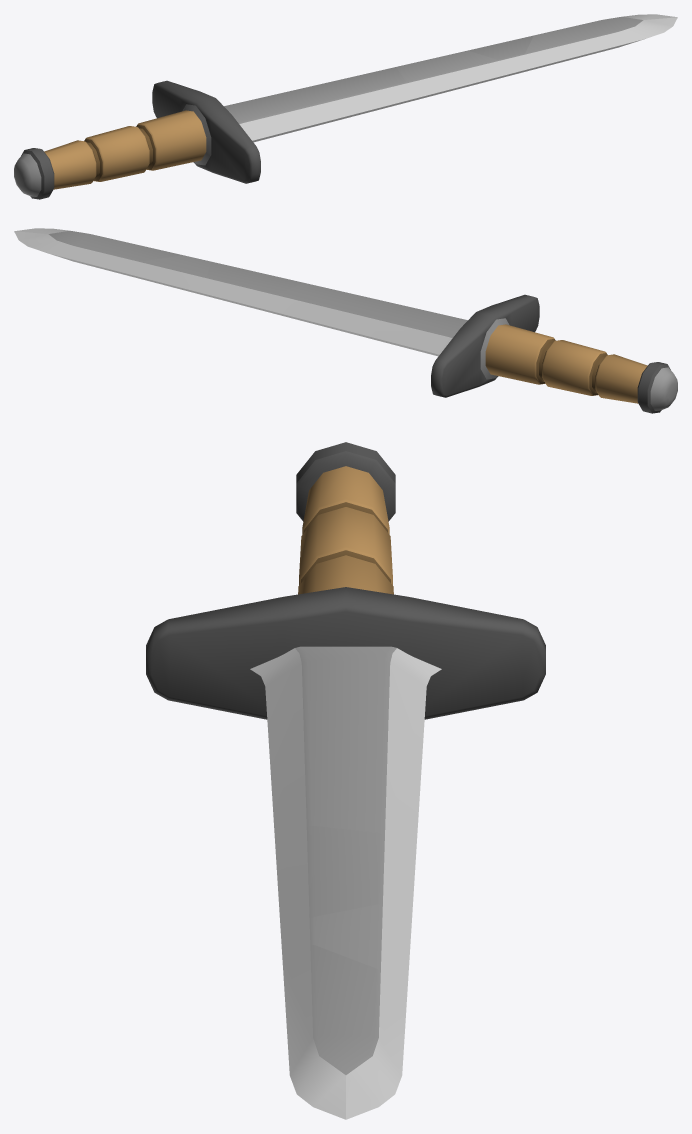
The model's file is Entity_Sword-bkn.FBX.
The picture shows the model from 3 angles, top to bottom: view 1: azimuth 30°, elevation 25°; view 2: azimuth 150°, elevation 25°; view 3: azimuth 270°, elevation 25°; orthographic projection. The views are drawn at different scales.
Parts seen in each view (by area): view 1: Object001, Sword_Part_4, Sword_Part_3, Sword_Part_2, Sword_Part_1; view 2: Object001, Sword_Part_4, Sword_Part_3, Sword_Part_2, Sword_Part_1; view 3: Object001, Sword_Part_4, Sword_Part_3, Sword_Part_2, Sword_Part_1.
Boxes of the visible parts, <box> form: Object001: <box>14,80,260,199</box>; Sword_Part_4: <box>224,67,411,142</box>; Sword_Part_3: <box>524,14,677,70</box>; Sword_Part_2: <box>396,51,510,102</box>; Sword_Part_1: <box>467,35,533,78</box>; Object001: <box>431,294,677,413</box>; Sword_Part_4: <box>265,283,467,356</box>; Sword_Part_3: <box>14,228,184,276</box>; Sword_Part_2: <box>206,261,303,313</box>; Sword_Part_1: <box>121,255,210,296</box>; Object001: <box>146,442,545,719</box>; Sword_Part_4: <box>250,646,441,857</box>; Sword_Part_3: <box>282,944,406,1119</box>; Sword_Part_2: <box>275,825,415,940</box>; Sword_Part_1: <box>281,904,412,1000</box>.
Size of the model in its own units: 291 by 26.91 by 76.48.
